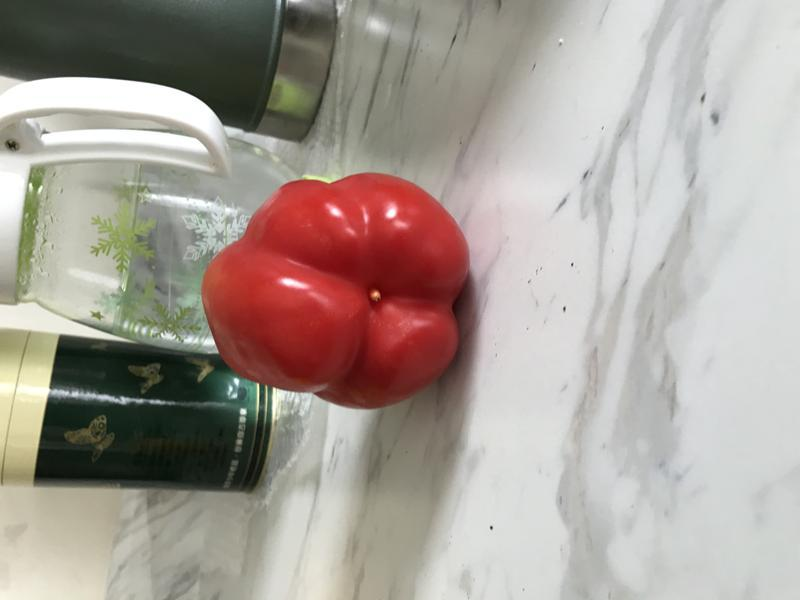red_pepper: (193, 165, 480, 418)
